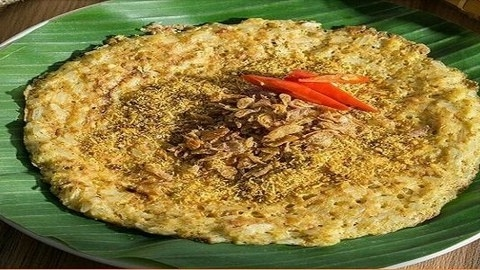kerak_telor: (21, 16, 480, 244)
